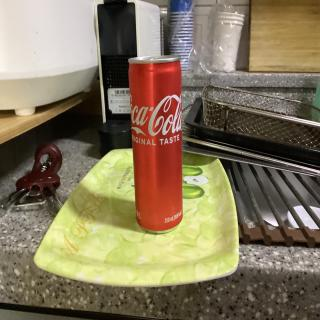cocacola: (128, 51, 186, 232)
